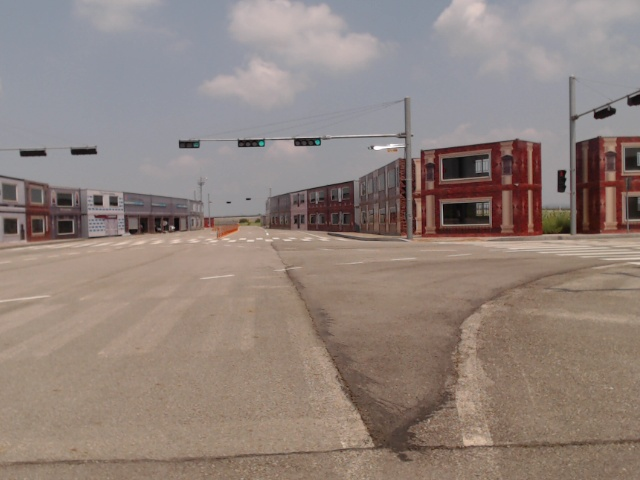straight_green_4: (293, 138, 322, 148), (237, 140, 266, 149)
